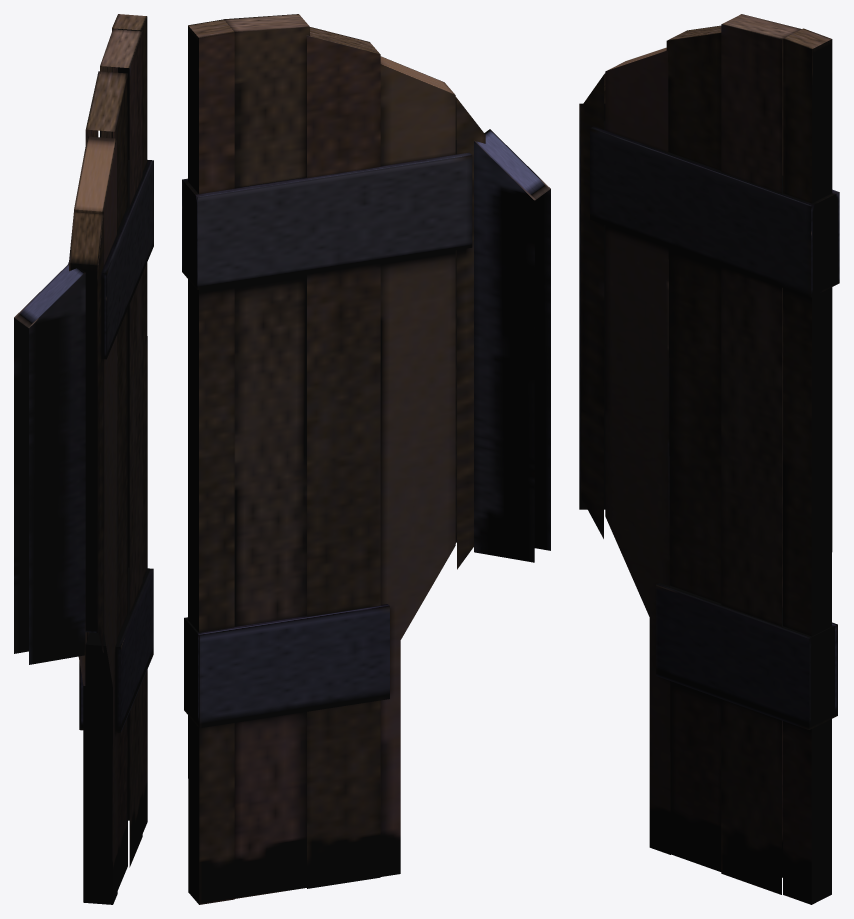
File: DoorSide2F5.obj
The picture shows the model from 3 angles, left to right: view 1: azimuth 30°, elevation 25°; view 2: azimuth 150°, elevation 25°; view 3: azimuth 270°, elevation 25°; orthographic projection. The views are drawn at different scales.
Visible parts, largest first — view 1: DoorSide2F5_Cube.426; view 2: DoorSide2F5_Cube.426; view 3: DoorSide2F5_Cube.426.
Boxes of the visible parts, x1=… form: DoorSide2F5_Cube.426: x1=14, y1=14, x2=153, y2=904; DoorSide2F5_Cube.426: x1=182, y1=14, x2=550, y2=904; DoorSide2F5_Cube.426: x1=579, y1=14, x2=839, y2=904.
Bounding box in the file's own units: 81.35 × 268 × 73.79.
1 material, 1 textured.
